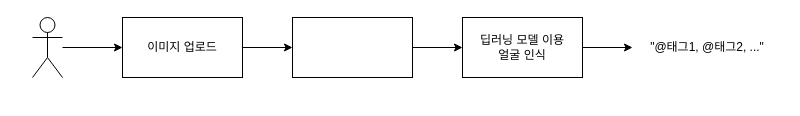
The diagram is 800 pixels wide and 116 high, and some of its shapes have lost their labels. Each missing label, with the centre of its shape:
SNS 이용자: the point at 47,47
얼굴 이미지 추출: the point at 352,47
